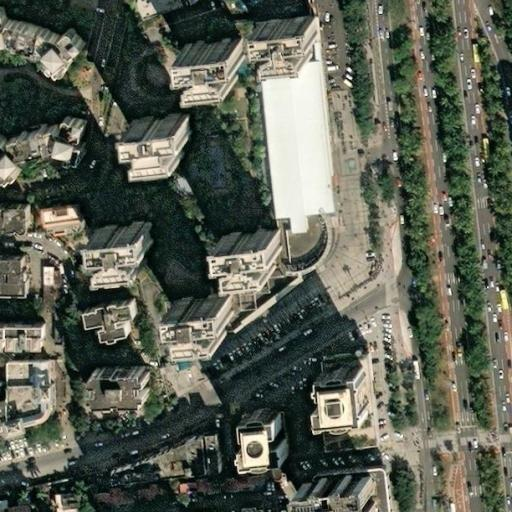building: (268, 99, 341, 238), (0, 2, 91, 71), (110, 429, 220, 480), (0, 112, 86, 176), (320, 473, 402, 512), (327, 358, 380, 417), (266, 20, 331, 63), (225, 235, 290, 277), (182, 308, 247, 350), (320, 477, 398, 512), (325, 366, 376, 419), (132, 119, 196, 161), (187, 42, 251, 84), (97, 224, 161, 266), (241, 406, 286, 455), (81, 298, 134, 339), (91, 373, 148, 408), (44, 206, 87, 239), (0, 250, 27, 293), (135, 0, 184, 21), (0, 202, 28, 231), (4, 366, 34, 391), (8, 390, 35, 417), (25, 408, 55, 429), (161, 343, 183, 370), (180, 482, 216, 498), (232, 475, 262, 491), (54, 496, 83, 512), (13, 422, 35, 443), (43, 390, 64, 408), (94, 491, 118, 504), (132, 162, 145, 182), (38, 377, 56, 391), (152, 367, 171, 380), (139, 492, 161, 501), (33, 366, 49, 378), (120, 494, 133, 507), (15, 500, 27, 511)
